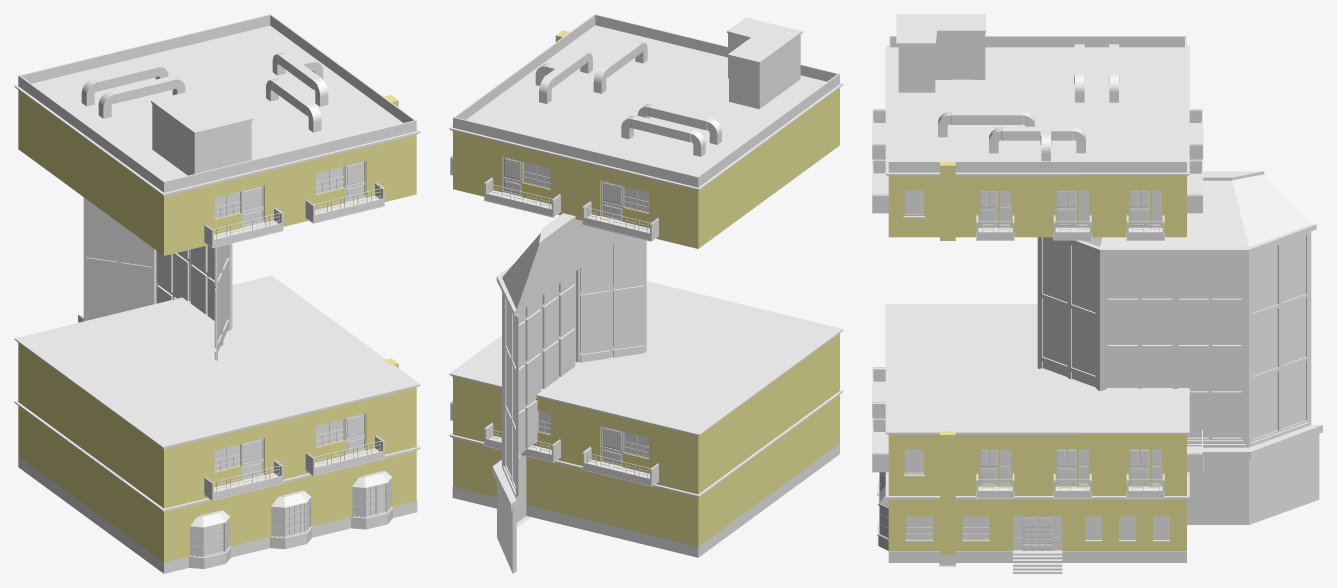
The model's file is res_mid_Building2.glb.
3 renders of one model, left to right at view 1: azimuth 30°, elevation 25°; view 2: azimuth 150°, elevation 25°; view 3: azimuth 270°, elevation 25°, orthographic. The views are drawn at different scales.
Parts seen in each view (by area): view 1: Roof, Floors, Ground Floor, SIde Window, side windows; view 2: Roof, Floors, SIde Window, Ground Floor; view 3: Roof, SIde Window, Floors, Ground Floor, Main Door, Stairs, side windows.
Boxes of the visible parts, x1=… form: Roof: x1=14, y1=14, x2=420, y2=255; Floors: x1=14, y1=275, x2=420, y2=508; Ground Floor: x1=14, y1=400, x2=420, y2=573; SIde Window: x1=78, y1=197, x2=232, y2=360; side windows: x1=188, y1=470, x2=393, y2=568; Roof: x1=449, y1=14, x2=843, y2=248; Floors: x1=449, y1=281, x2=843, y2=494; SIde Window: x1=492, y1=213, x2=646, y2=573; Ground Floor: x1=449, y1=389, x2=843, y2=557; Roof: x1=872, y1=14, x2=1203, y2=240; SIde Window: x1=1037, y1=171, x2=1322, y2=524; Floors: x1=872, y1=304, x2=1203, y2=499; Ground Floor: x1=885, y1=472, x2=1189, y2=566; Main Door: x1=1013, y1=516, x2=1062, y2=550; Stairs: x1=1013, y1=551, x2=1062, y2=573; side windows: x1=877, y1=472, x2=888, y2=550.
Bounding box in the file's own units: 2.2 × 3.25 × 3.02.
